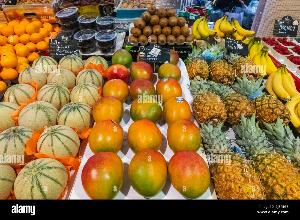kiwi: (126, 2, 192, 48)
mango: (90, 54, 202, 202)
melon: (0, 56, 100, 200)
orange: (1, 18, 56, 76)
pineapple: (188, 54, 300, 200)
